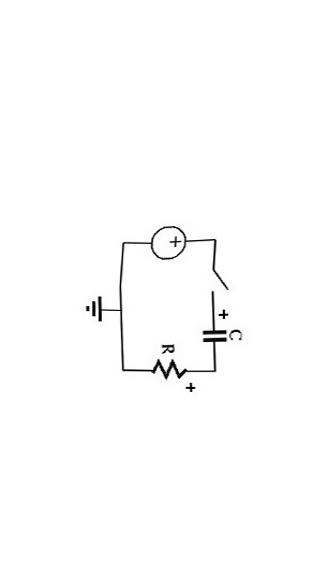Battery: (136, 208, 200, 273)
